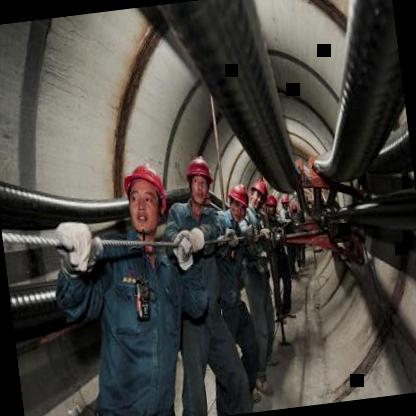helmet: (115, 152, 176, 237), (180, 152, 216, 207), (226, 180, 252, 223), (248, 174, 270, 210), (263, 194, 280, 213), (278, 192, 290, 209)
